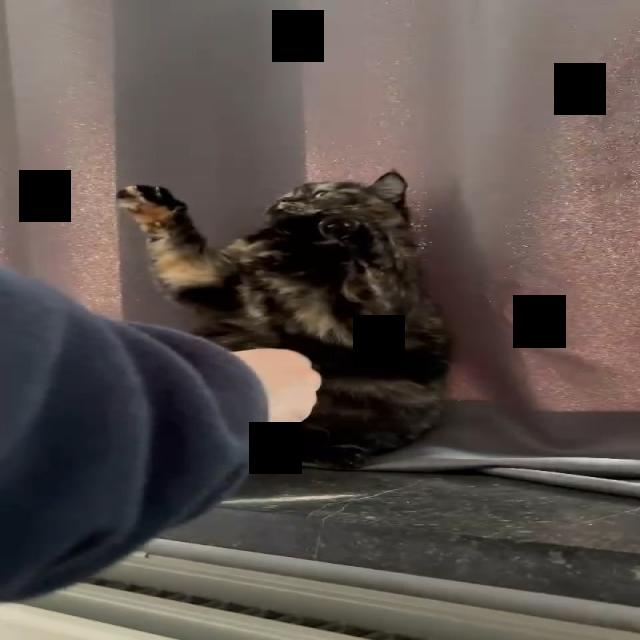authorized: (114, 169, 454, 469)
